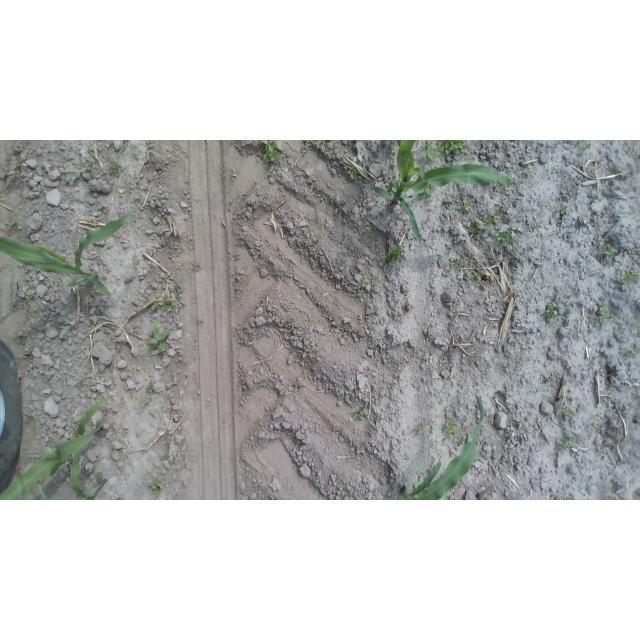Maize: (369, 140, 515, 246), (0, 396, 114, 501), (2, 212, 134, 298), (402, 393, 486, 500)
Weeds: (150, 282, 187, 313), (147, 323, 170, 352), (444, 420, 466, 449), (261, 141, 285, 164), (557, 435, 583, 454), (420, 141, 441, 164), (598, 300, 615, 328), (439, 140, 468, 156), (546, 300, 566, 322), (385, 245, 404, 267), (495, 228, 518, 246), (148, 475, 165, 499), (620, 269, 639, 286), (352, 404, 369, 421), (484, 210, 500, 228), (469, 219, 483, 238), (109, 161, 124, 178), (603, 243, 617, 261), (419, 186, 434, 202), (84, 161, 96, 178), (415, 422, 428, 436), (461, 197, 472, 213), (447, 258, 460, 271), (562, 405, 574, 418), (346, 168, 358, 180), (474, 268, 485, 281), (11, 157, 20, 172), (590, 412, 601, 424), (285, 316, 295, 327), (557, 203, 567, 214), (142, 396, 152, 407), (358, 276, 367, 288), (75, 378, 85, 388), (131, 254, 141, 264), (145, 382, 154, 393), (630, 346, 639, 356), (366, 224, 376, 233), (231, 253, 241, 262), (347, 395, 356, 405), (72, 172, 81, 181), (608, 169, 621, 175), (8, 219, 15, 230), (534, 221, 543, 229), (194, 263, 203, 271), (28, 292, 36, 301), (631, 316, 638, 326), (503, 184, 513, 191), (583, 142, 591, 150), (300, 148, 308, 156), (313, 236, 322, 243), (71, 430, 78, 439), (524, 169, 533, 176), (159, 454, 167, 461), (150, 141, 158, 148), (205, 398, 211, 407), (86, 320, 93, 327), (106, 141, 113, 148), (61, 256, 69, 262), (494, 255, 501, 261), (474, 356, 480, 363), (439, 309, 445, 316), (593, 356, 600, 361), (1, 173, 6, 178)
